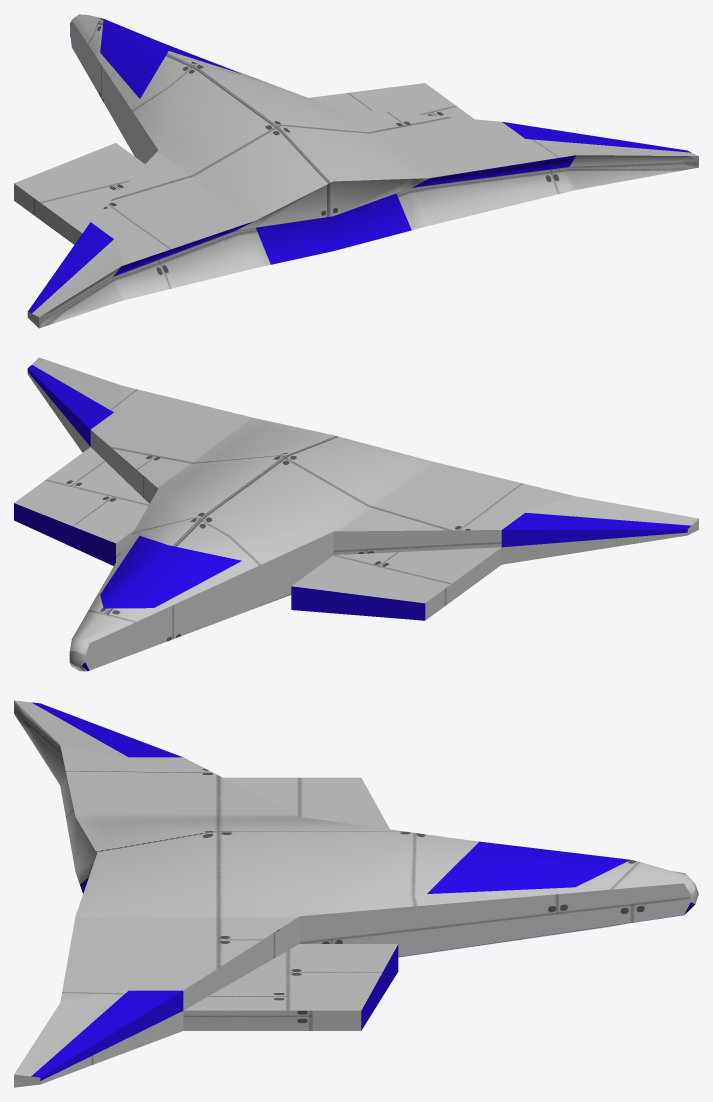
The model's file is Ship.fbx.
The picture shows the model from 3 angles, top to bottom: view 1: azimuth 30°, elevation 25°; view 2: azimuth 150°, elevation 25°; view 3: azimuth 270°, elevation 25°; orthographic projection. The views are drawn at different scales.
Parts seen in each view (by area): view 1: pCube1; view 2: pCube1; view 3: pCube1.
Part boxes in pixels (left/top/right/bottom): pCube1: left=14, top=14, right=698, bottom=328; pCube1: left=14, top=357, right=698, bottom=671; pCube1: left=14, top=700, right=698, bottom=1087.
Size of the model in its own units: 19.97 by 3.07 by 15.45.
